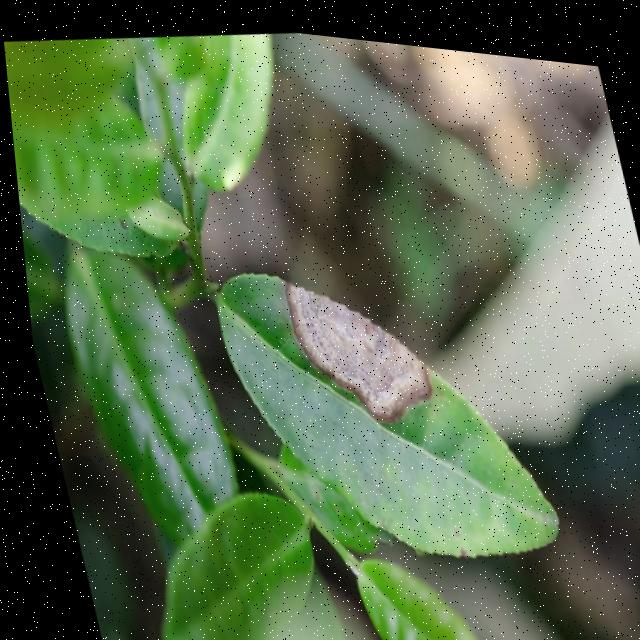Tea cloud leaf blight: (275, 254, 434, 424)
